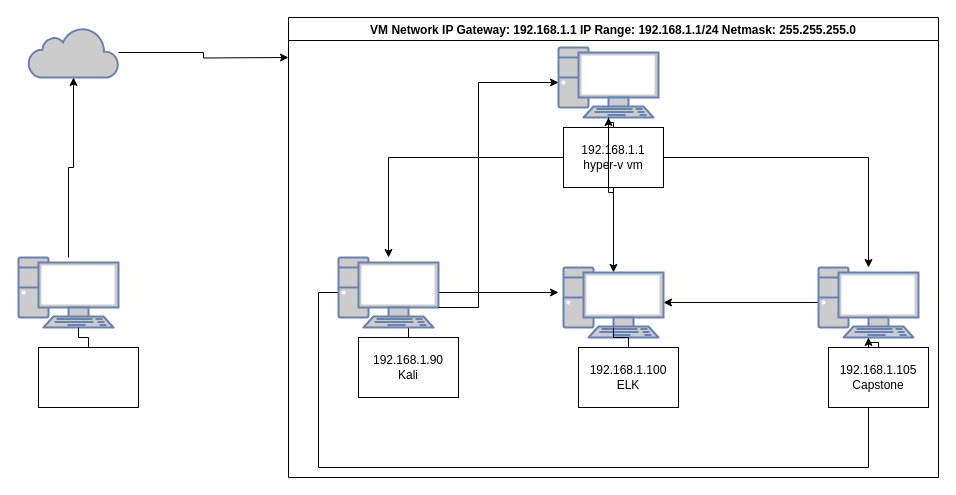
The diagram is 956 pixels wide and 495 high, and some of its shapes have lost their labels. Each missing label, with the centre of its shape:
"Host pc" goes at pixel 88 377.
"Internet" goes at pixel 73 52.
